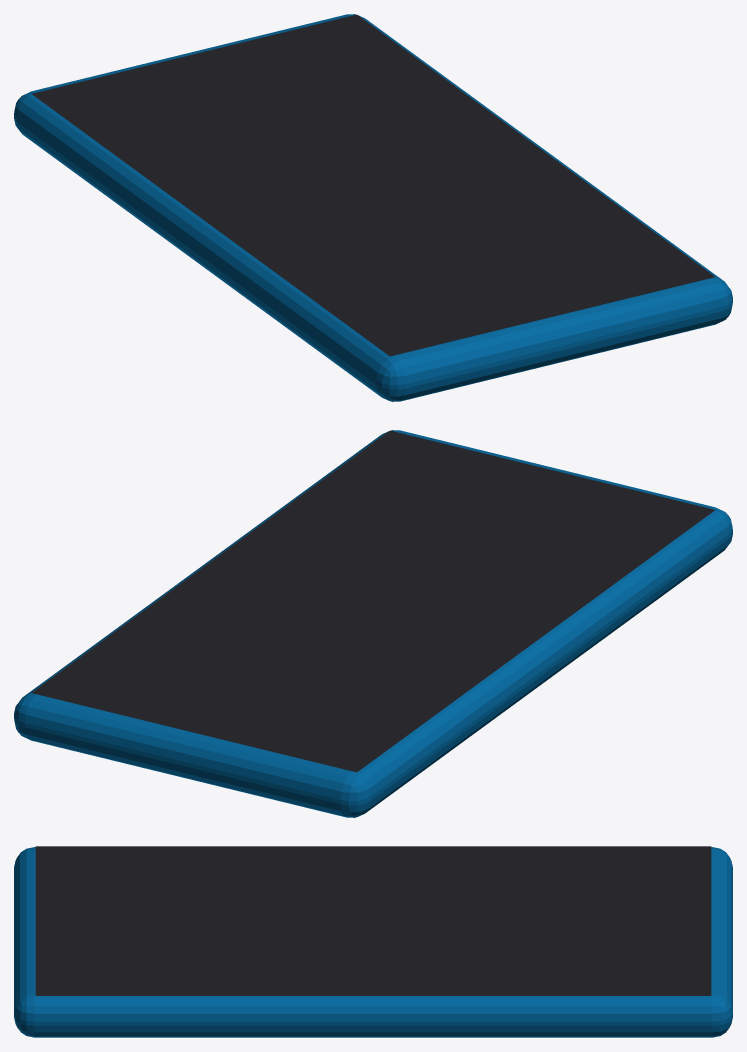
File: xiaomi-redmi-note-model-75-flagship-2021.glb
3 views of the same model, one above another, from view 1: azimuth 30°, elevation 25°; view 2: azimuth 150°, elevation 25°; view 3: azimuth 270°, elevation 25° (orthographic). The views are drawn at different scales.
Parts seen in each view (by area): view 1: Phone_Screen, Phone_Body; view 2: Phone_Screen, Phone_Body; view 3: Phone_Screen, Phone_Body.
Boxes of the visible parts, x1,y1,x2,y2 form: Phone_Screen: [32, 14, 714, 356]; Phone_Body: [14, 14, 732, 401]; Phone_Screen: [32, 430, 714, 772]; Phone_Body: [14, 430, 732, 817]; Phone_Screen: [35, 846, 711, 995]; Phone_Body: [14, 847, 732, 1037].
Size of the model in its own units: 0.0798 by 0.0096 by 0.149.
